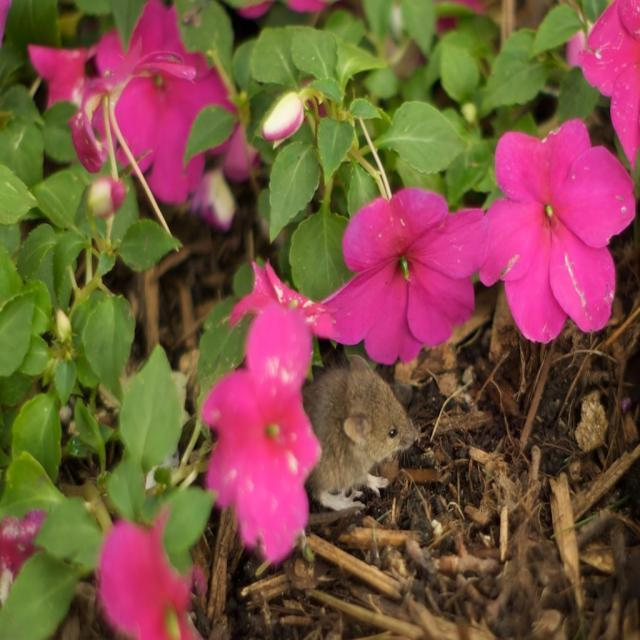rat: (301, 350, 428, 506)
